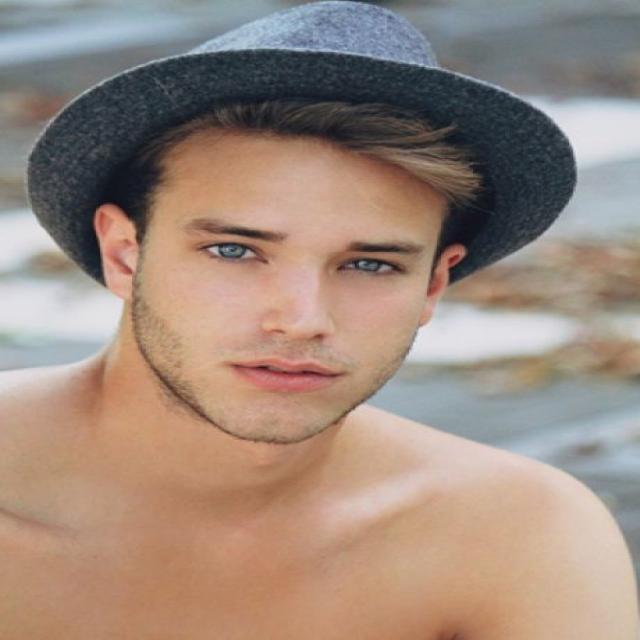front: (156, 180, 431, 408)
